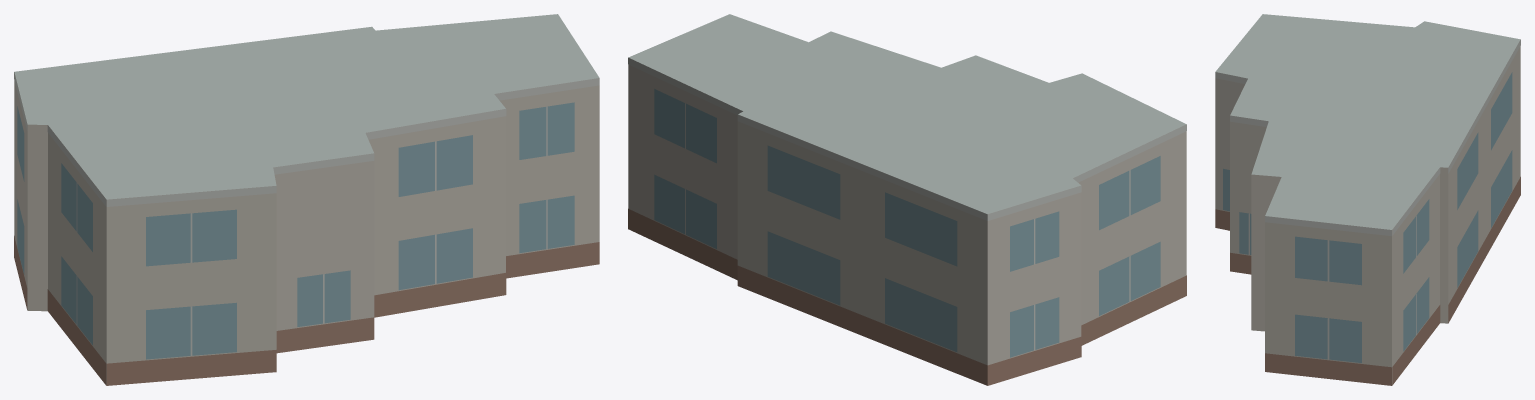
The model's file is survey-upis-32831380.glb.
The picture shows the model from 3 angles, left to right: view 1: azimuth 30°, elevation 25°; view 2: azimuth 150°, elevation 25°; view 3: azimuth 270°, elevation 25°; orthographic projection. The views are drawn at different scales.
Parts seen in each view (by area): view 1: survey-upis-32831380.tmp; view 2: survey-upis-32831380.tmp; view 3: survey-upis-32831380.tmp.
Boxes of the visible parts, left/top/right/bottom form: survey-upis-32831380.tmp: left=14, top=14, right=599, bottom=385; survey-upis-32831380.tmp: left=628, top=14, right=1186, bottom=385; survey-upis-32831380.tmp: left=1215, top=14, right=1520, bottom=385.
Bounding box in the file's own units: 18.14 × 6.1 × 10.84.
